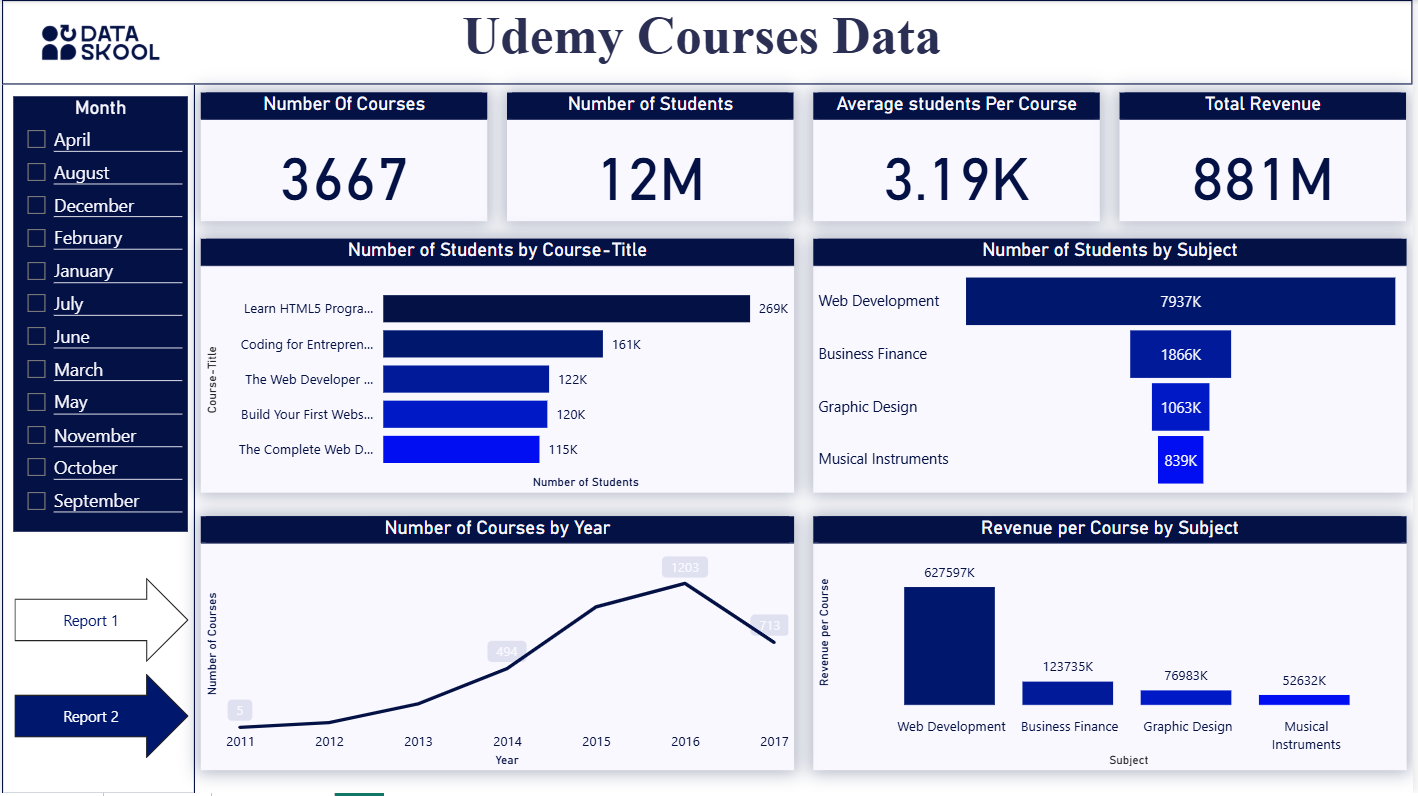

This screenshot's page, from the dashboard's own definition file:
{"tool":"powerbi","page":{"name":"Report 1","canvas":[1280,720],"ordinal":0},"visuals":[{"type":"shape","box":[0,59.2,175.1,661.4],"z":0},{"type":"shape","box":[0,0,1279.8,76.7],"z":1000},{"type":"image","box":[0,0,179.8,76.9],"z":2000},{"type":"textbox","box":[214.5,0,852.9,96.4],"z":3000},{"type":"funnel","fields":{"Category":["Course's Data.Subject"],"Y":["'Measures'.Number of Students"]},"box":[736,216.5,538.4,230.7],"z":4000},{"type":"card","title":"Number Of Courses ","fields":{"Values":["'Measures'.Number of Courses"]},"box":[179.8,84,260.3,117.1],"z":5000},{"type":"columnChart","fields":{"Y":["'Measures'.Revenue per Course"],"Category":["Course's Data.Subject"]},"box":[736,468.6,538.4,230.7],"z":6000},{"type":"slicer","title":"Month","fields":{"Values":["Course's Data.Month Name"]},"box":[10.6,87.6,158.6,395.2],"z":8000},{"type":"lineChart","fields":{"Y":["'Measures'.Number of Courses"],"Category":["Course's Data.Year"]},"box":[179.8,468.6,538.4,230.7],"z":9000},{"type":"card","title":"Number of Students","fields":{"Values":["'Measures'.Number of Students"]},"box":[457.9,84,260.3,117.1],"z":10000},{"type":"card","title":"Average students Per Course ","fields":{"Values":["'Measures'.Average Students per Course"]},"box":[736,84,260.3,117.1],"z":11000},{"type":"card","title":"Total Revenue ","fields":{"Values":["'Measures'.Revenue per Course"]},"box":[1014,84,260.3,117.1],"z":12000},{"type":"barChart","fields":{"Category":["Course's Data.Course-Title"],"Y":["'Measures'.Number of Students"]},"box":[179.8,216.5,538.4,230.7],"z":13000},{"type":"pageNavigator","box":[11.4,524.4,158.5,165.8],"z":14000}]}

Visuals, with their boxes in screenshot pixels (x1, y1, x2, y2), scaled from the page's 1280x720 canvas onto the 1418x796 screenshot:
shape: box(0, 65, 194, 795)
shape: box(0, 0, 1417, 85)
image: box(0, 0, 199, 85)
textbox: box(238, 0, 1182, 107)
funnel - Course's Data.Subject x 'Measures'.Number of Students: box(815, 239, 1412, 494)
"Number Of Courses " card: box(199, 93, 488, 222)
columnChart - 'Measures'.Revenue per Course x Course's Data.Subject: box(815, 518, 1412, 773)
"Month" slicer: box(12, 97, 187, 534)
lineChart - 'Measures'.Number of Courses x Course's Data.Year: box(199, 518, 796, 773)
"Number of Students" card: box(507, 93, 796, 222)
"Average students Per Course " card: box(815, 93, 1104, 222)
"Total Revenue " card: box(1123, 93, 1412, 222)
barChart - Course's Data.Course-Title x 'Measures'.Number of Students: box(199, 239, 796, 494)
pageNavigator: box(13, 580, 188, 763)
